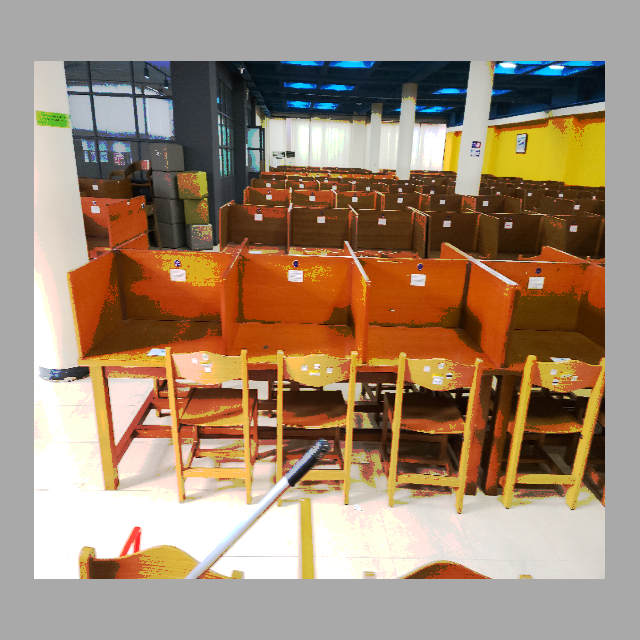empty: (369, 250, 510, 447), (70, 249, 223, 425), (225, 244, 362, 427)
